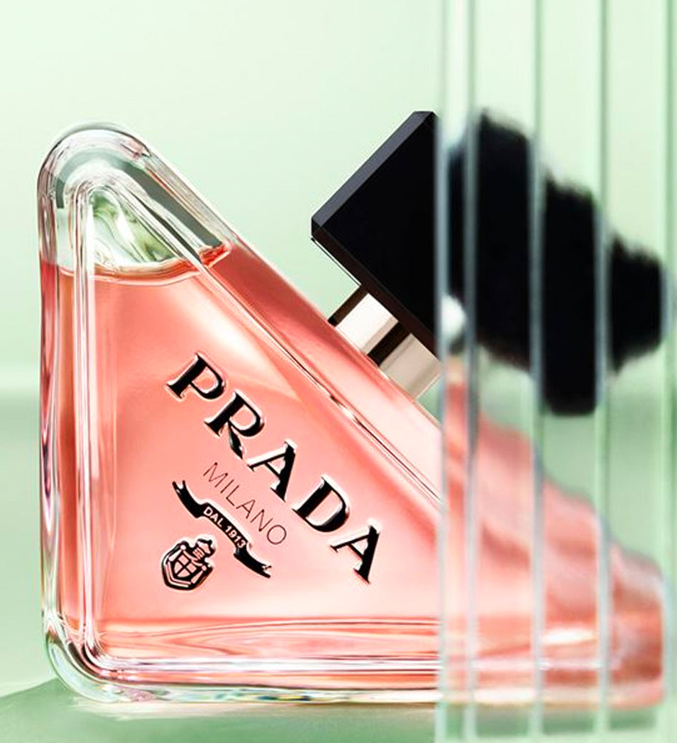prada_paradoxe: (35, 83, 655, 717)
